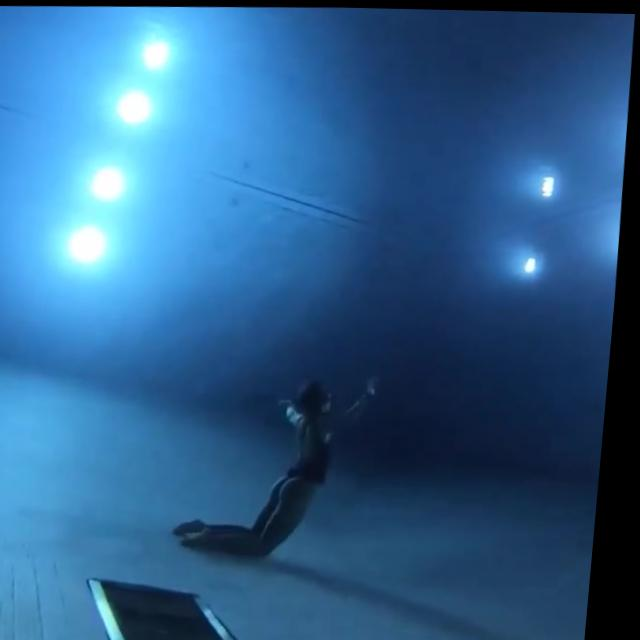human: (173, 363, 393, 567)
